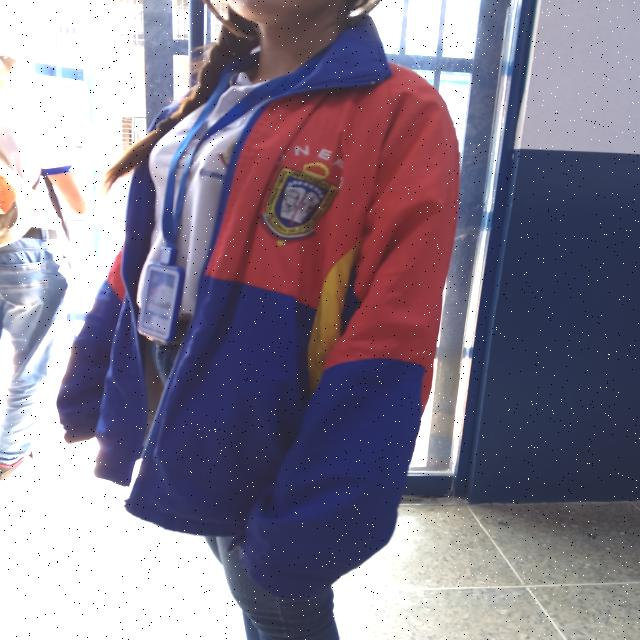carnet: (136, 267, 182, 341)
chaqueta_unefa: (55, 13, 462, 603)
